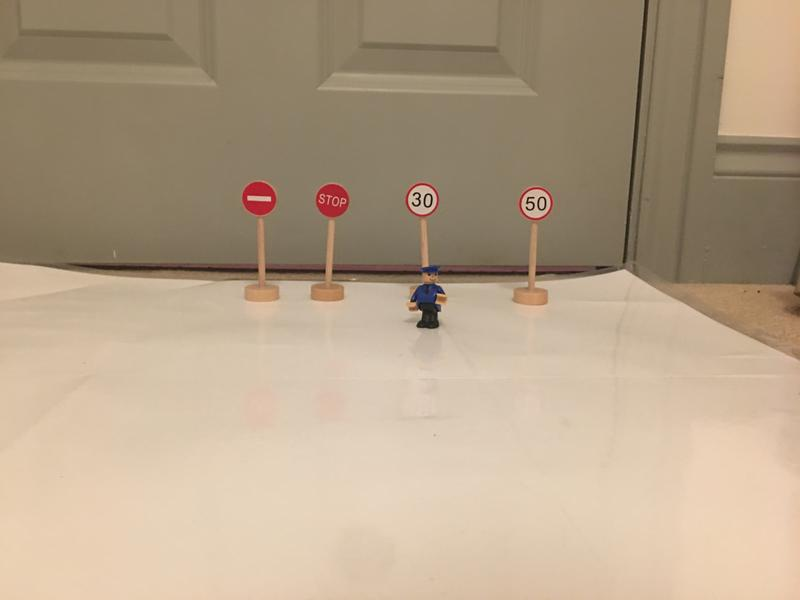Traffic_Sign_30: (406, 184, 439, 216)
Traffic_Sign_50: (520, 187, 554, 220)
Traffic_Sign_No_Entry: (242, 182, 278, 216)
Traffic_Sign_Stop: (317, 181, 349, 218)
person: (408, 265, 451, 329)
